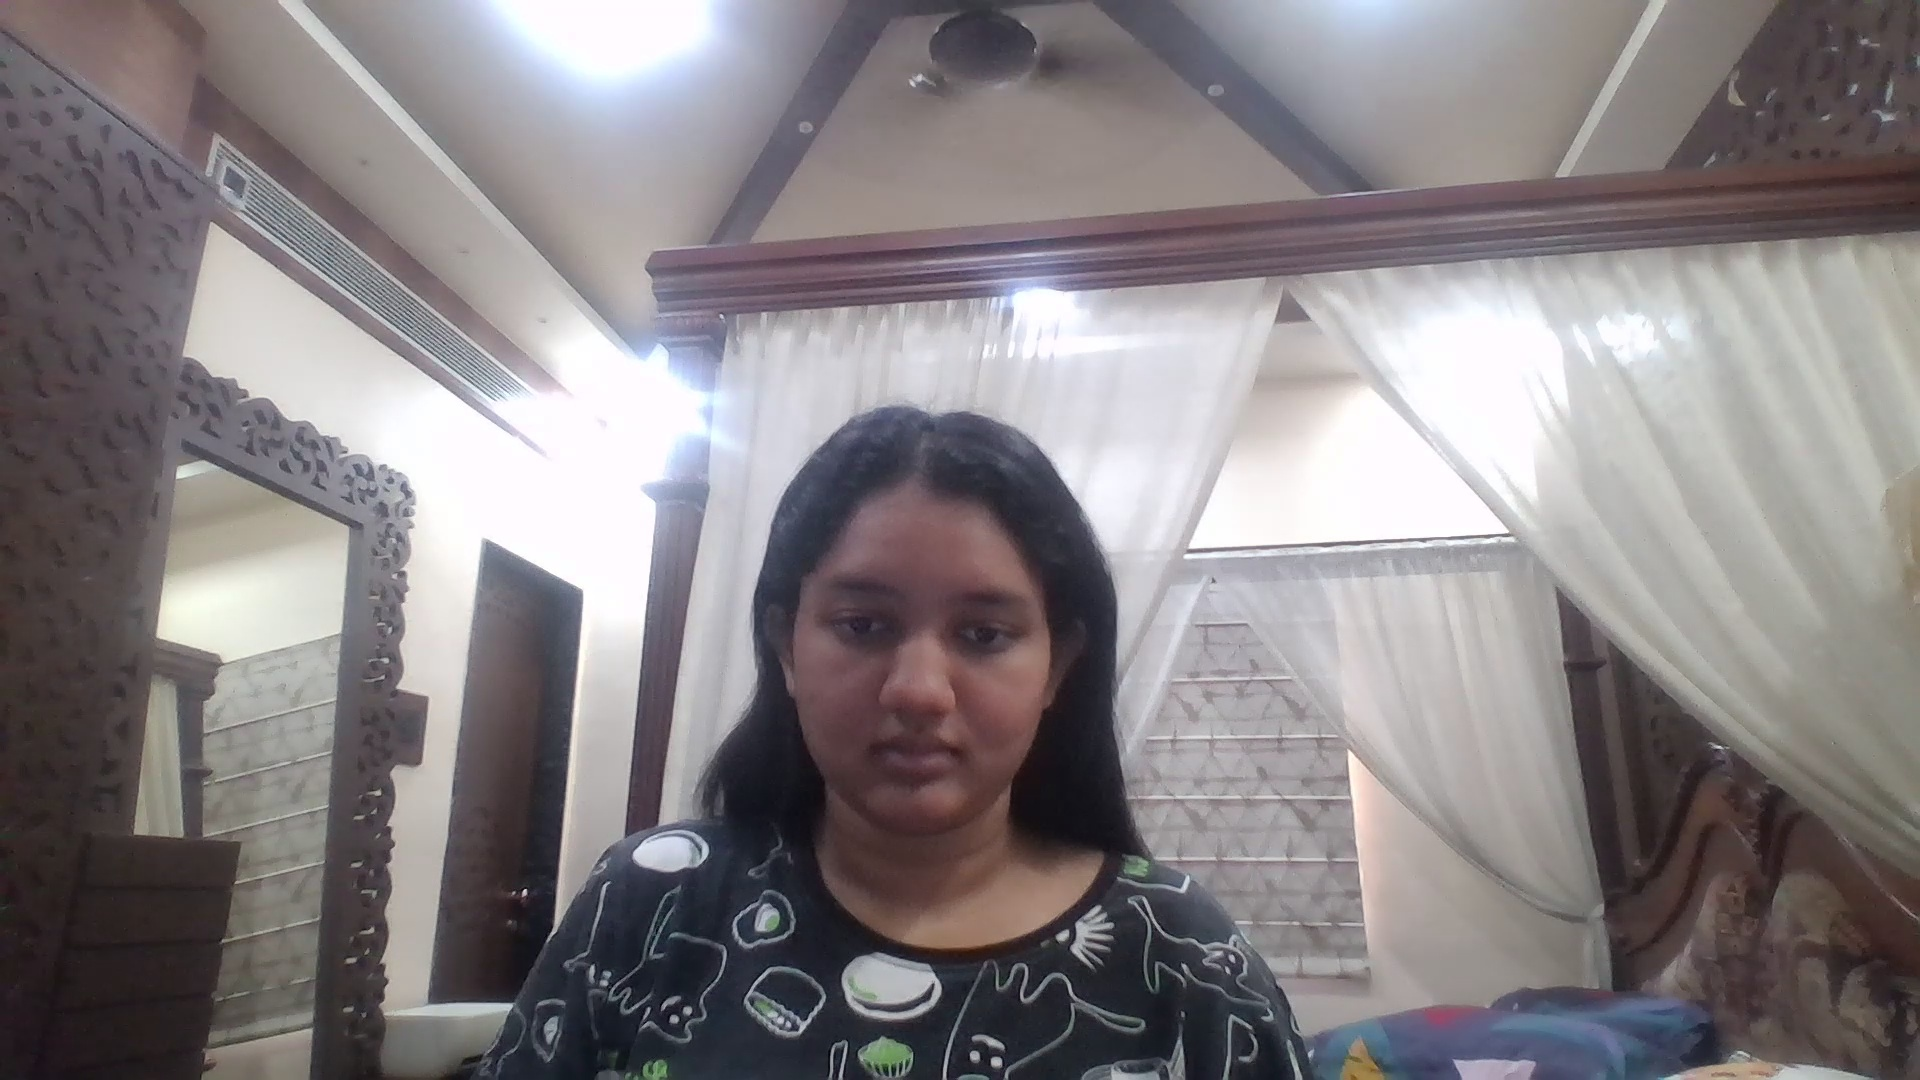No Mask: (786, 662, 1056, 829)
